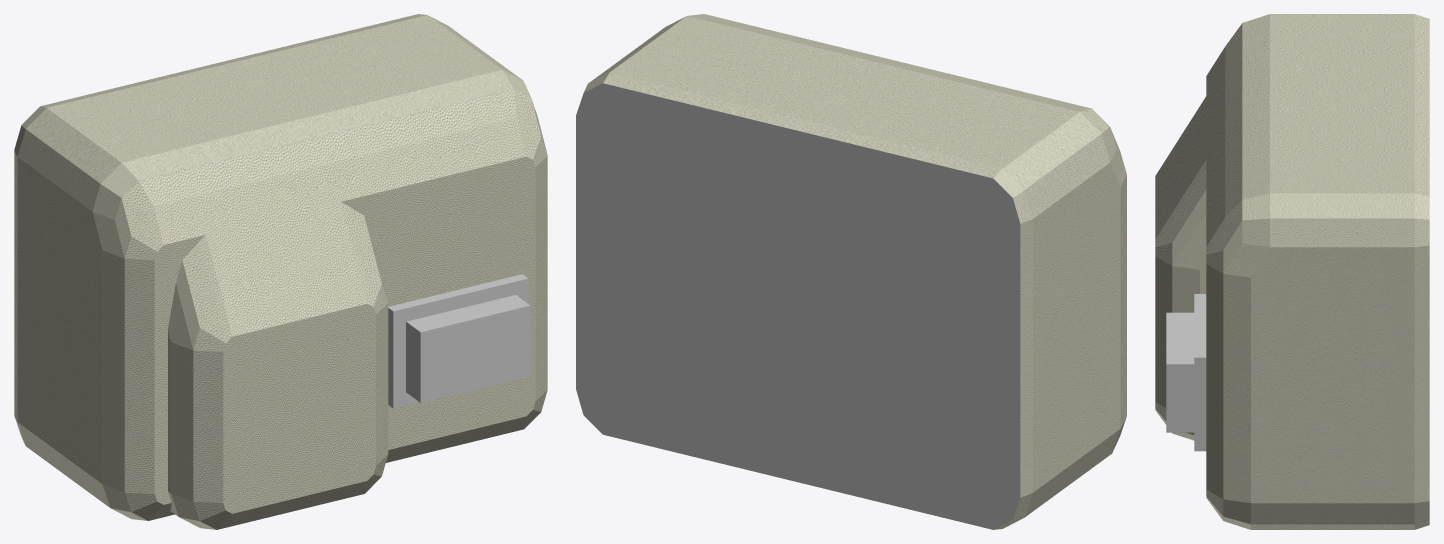
File: handdryer.glb
The picture shows the model from 3 angles, left to right: view 1: azimuth 30°, elevation 25°; view 2: azimuth 150°, elevation 25°; view 3: azimuth 270°, elevation 25°; orthographic projection. The views are drawn at different scales.
Size of the model in its own units: 0.26 by 0.1976 by 0.1458.
Materials: 2 (1 with a texture image).
